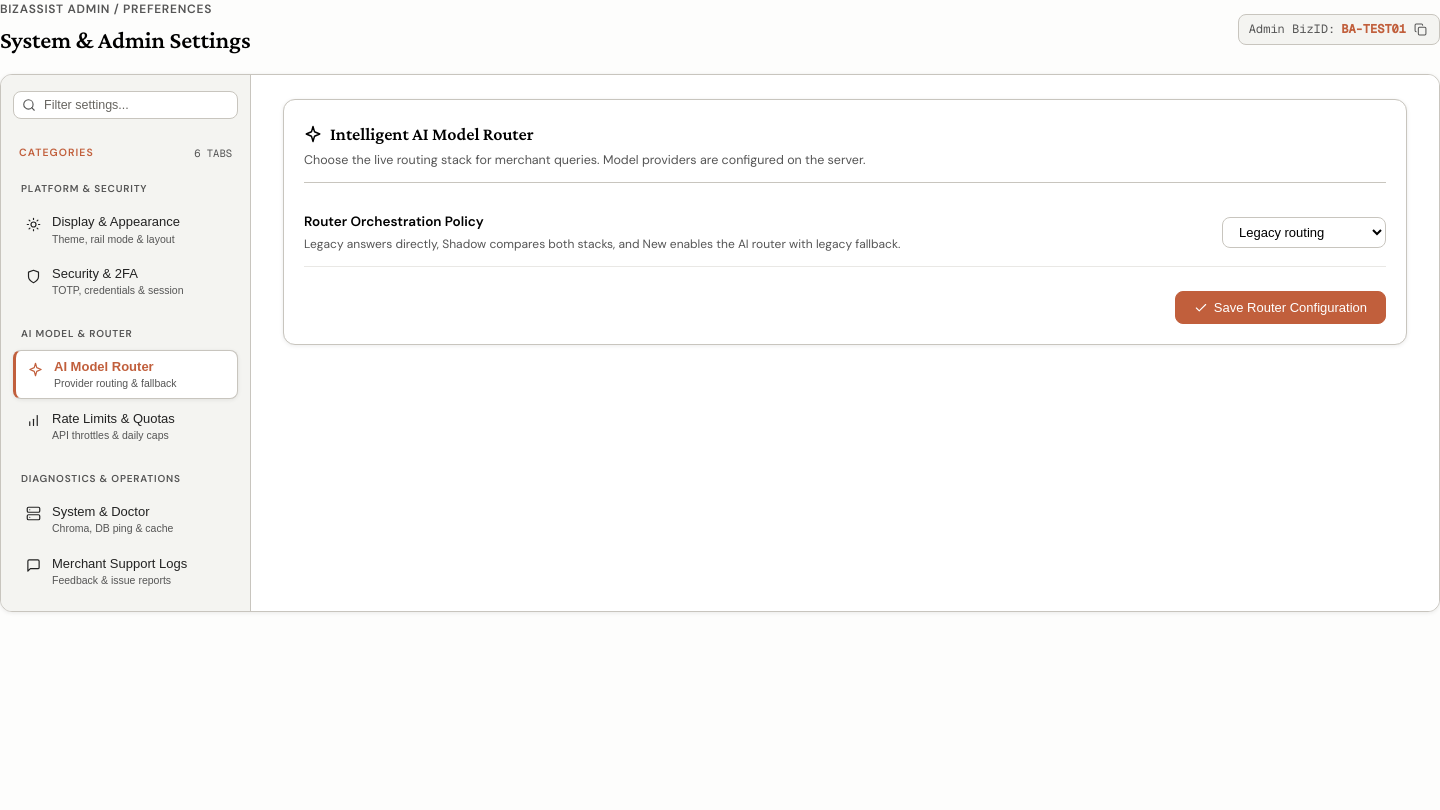
Admin settings API contracts › confirms a routing change and sends only a supported server mode
The image size is (1440, 810).
Select "New AI router" in the dropdown named "Router orchestration policy" at (1304, 233), box [1222,217,1386,248]
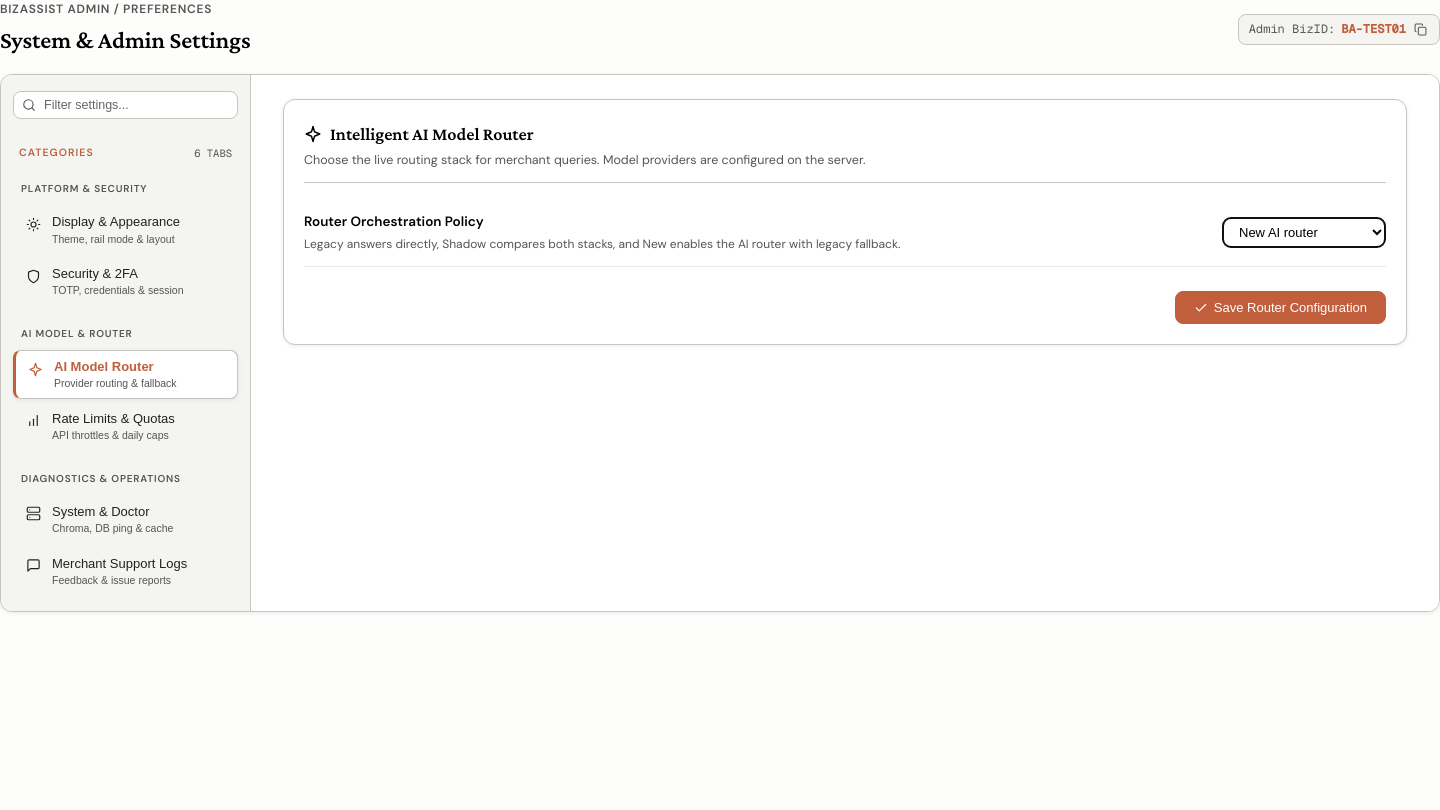
Click the button "Save Router Configuration" at (1280, 308), box [1175,291,1386,324]
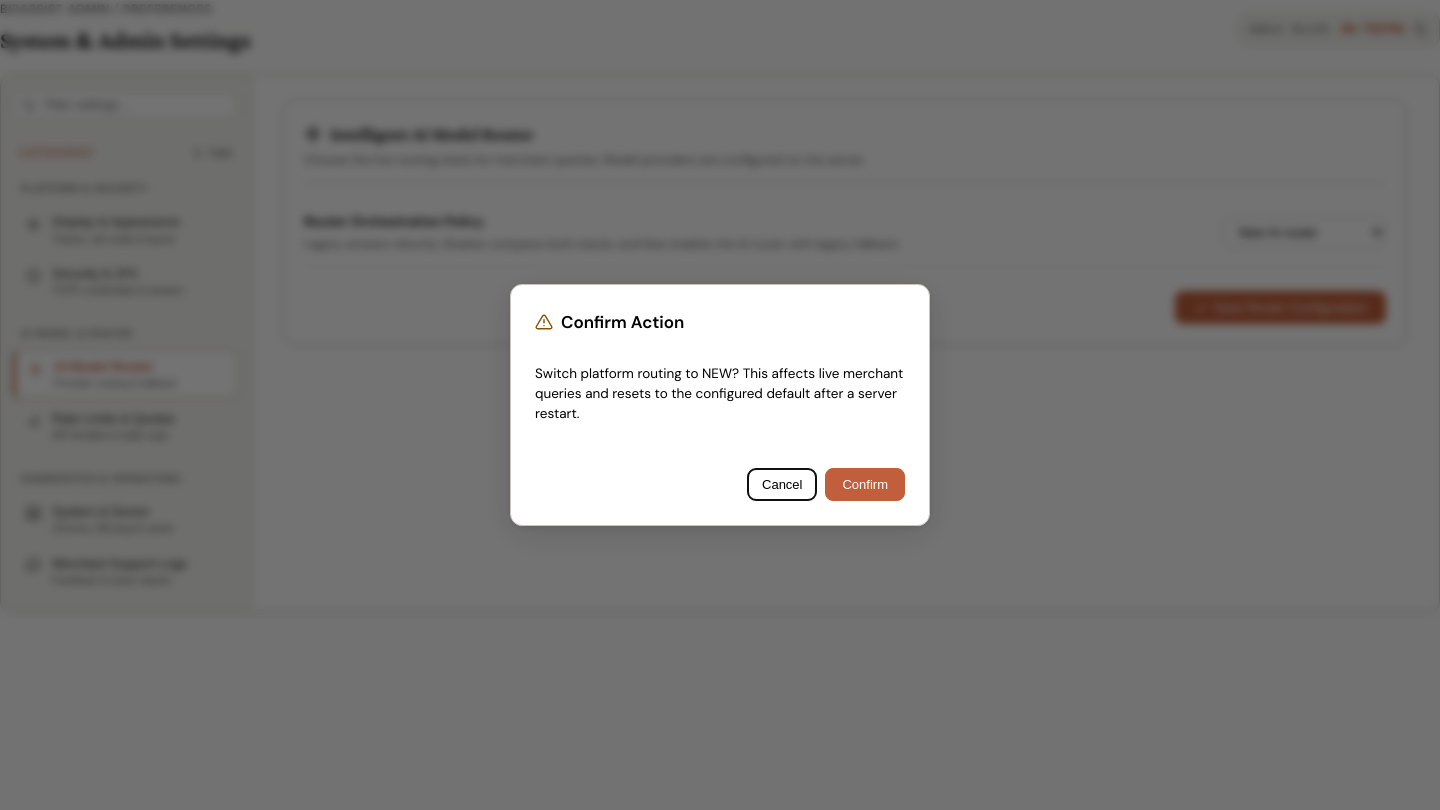
Click the button "Confirm" at (865, 485), box [826,468,905,501]
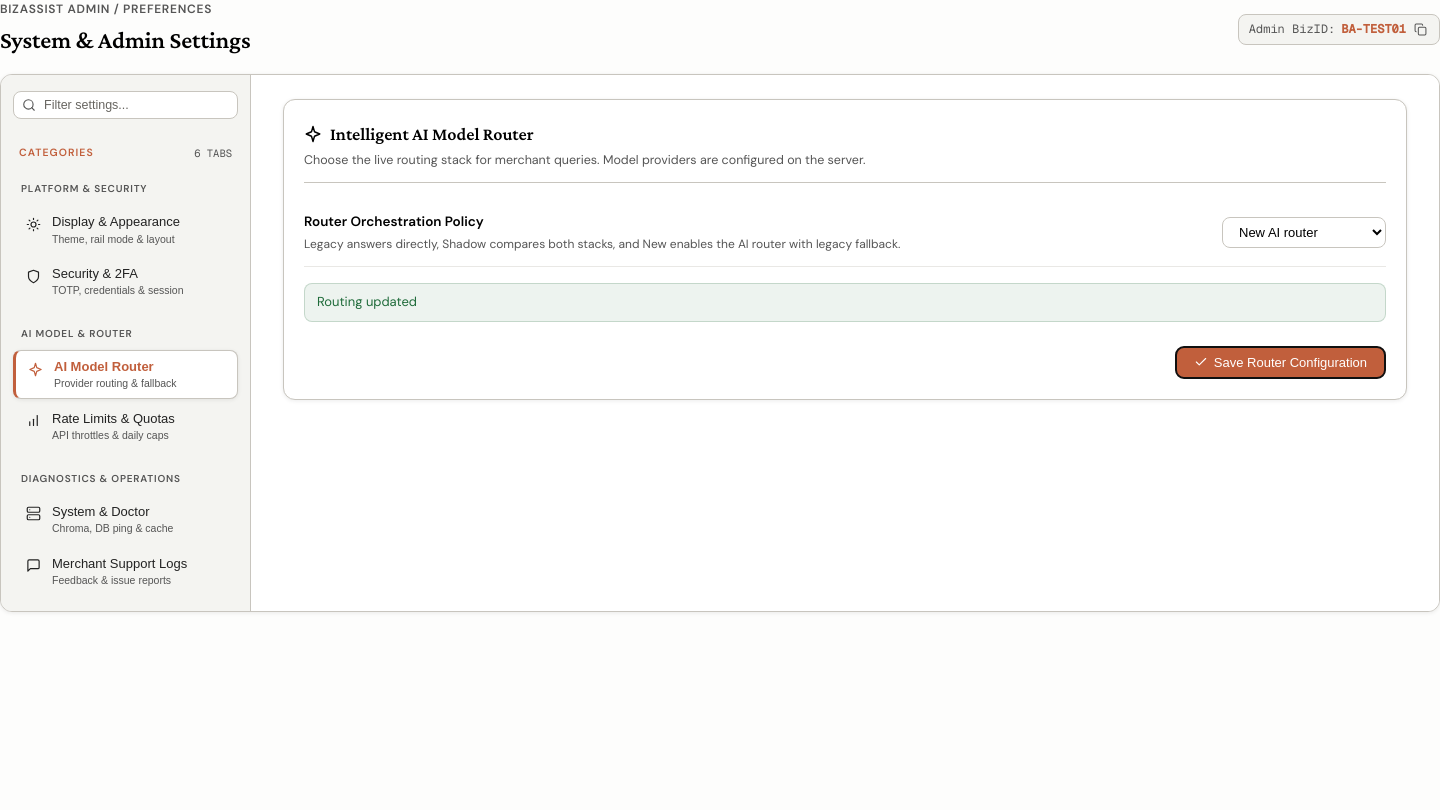
Check: the text "Routing updated" is shown, box [304,283,1386,322]
